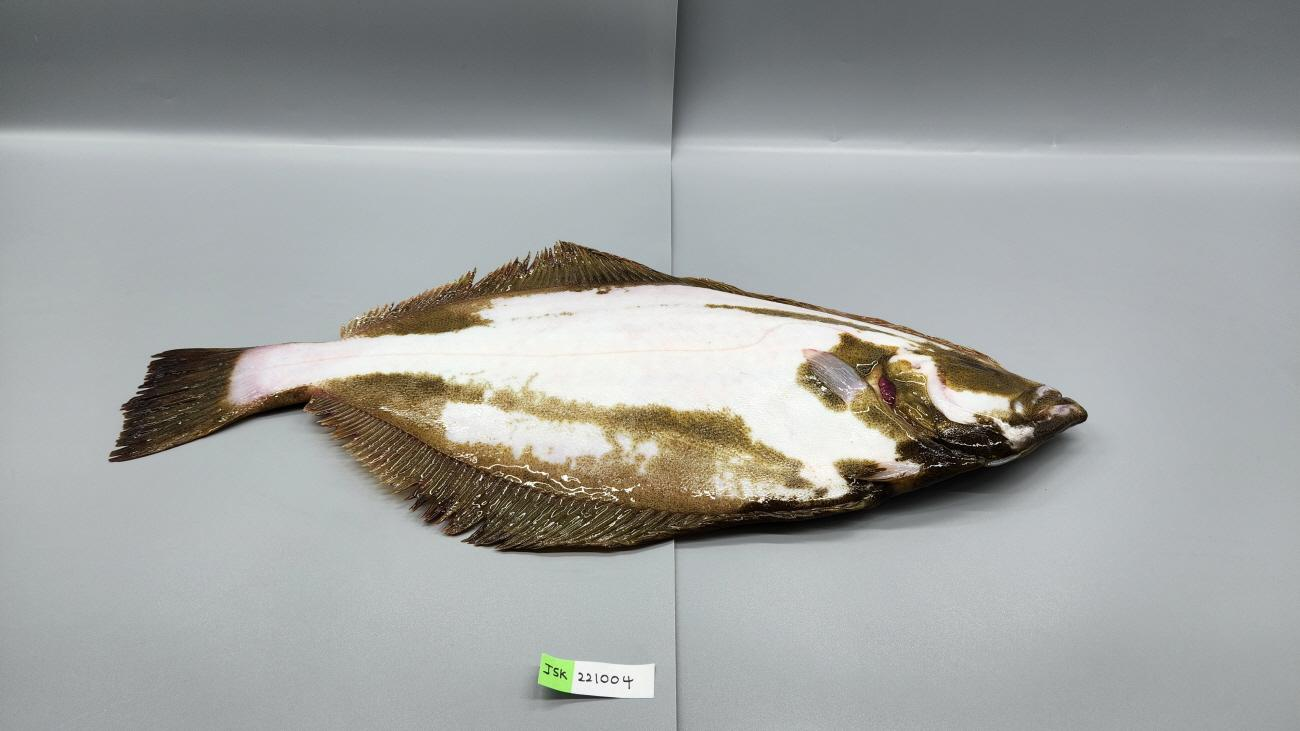POOUN: (107, 240, 1088, 553)
